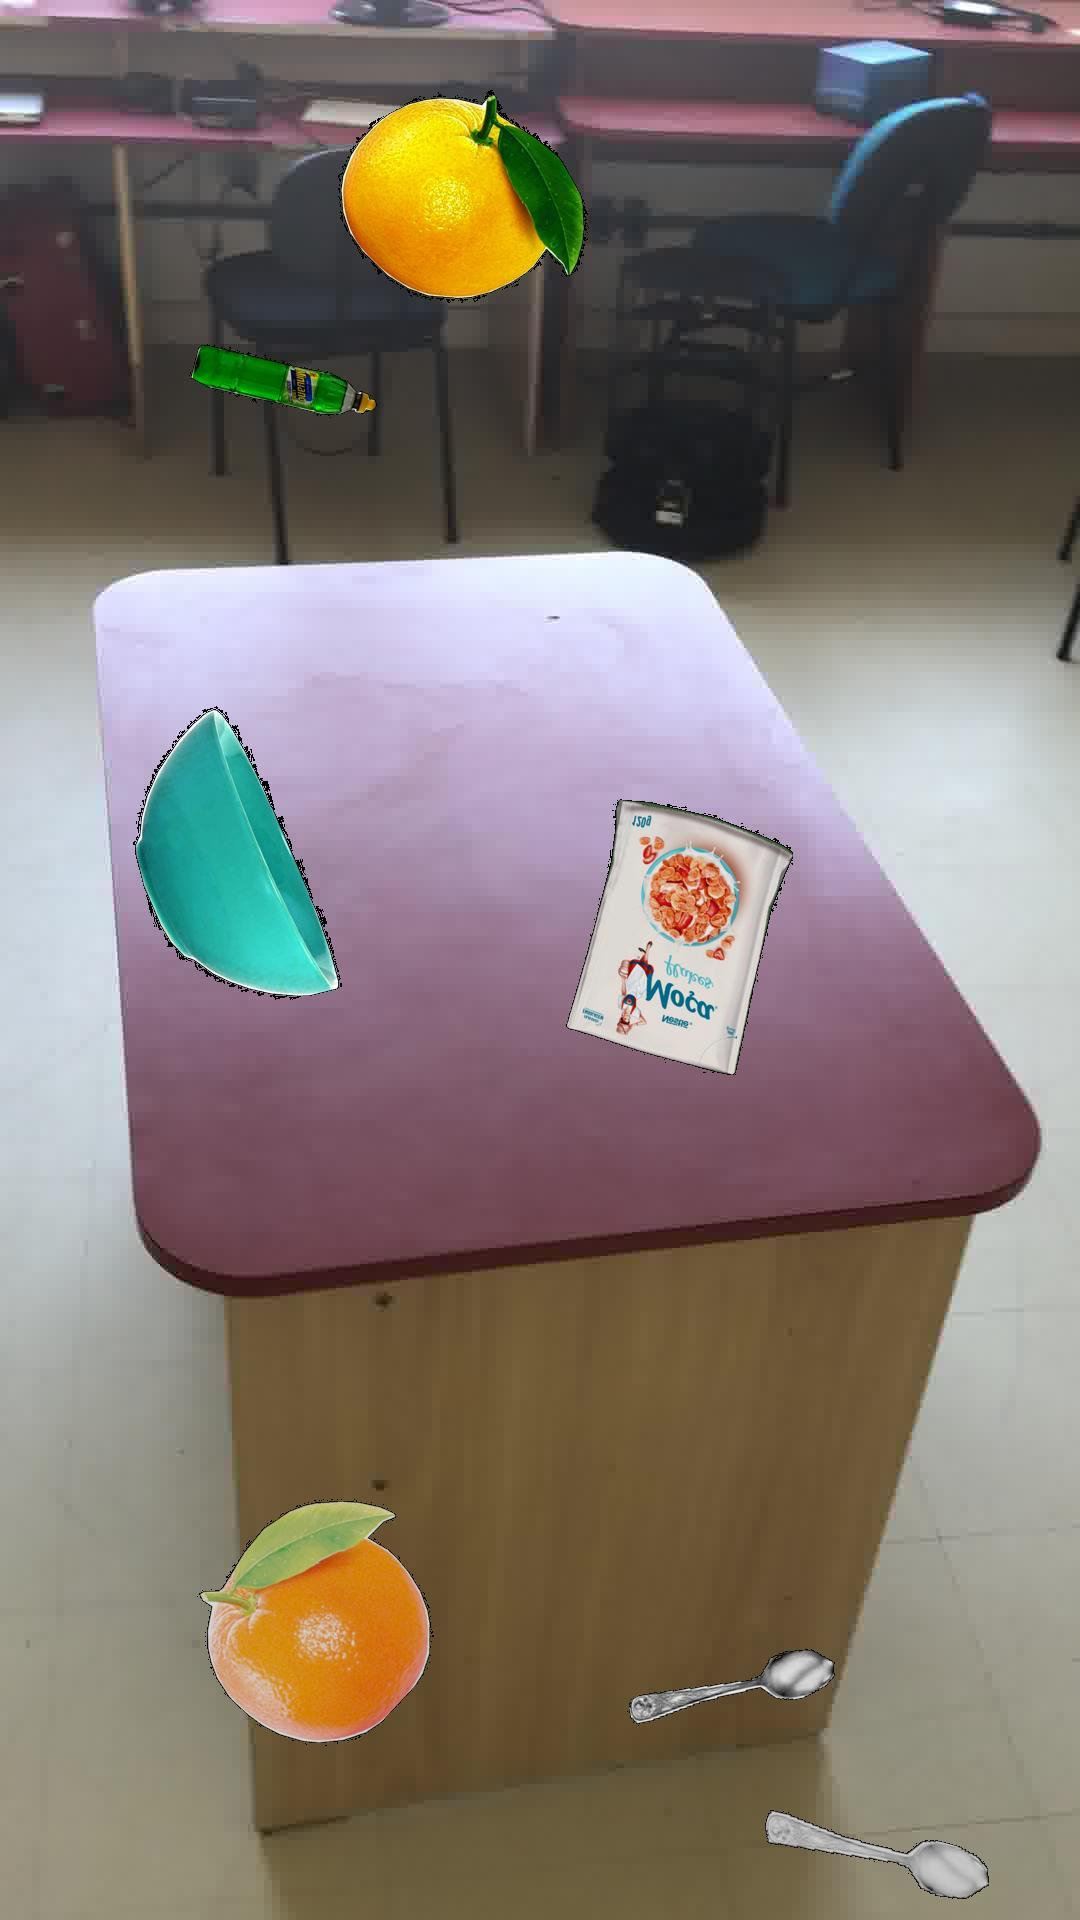bowl: (132, 707, 339, 998)
cleaner: (190, 343, 376, 414)
corn flakes: (564, 798, 791, 1073)
orange: (198, 1498, 430, 1742), (336, 88, 587, 302)
spoon: (764, 1808, 988, 1898), (628, 1647, 833, 1722)
